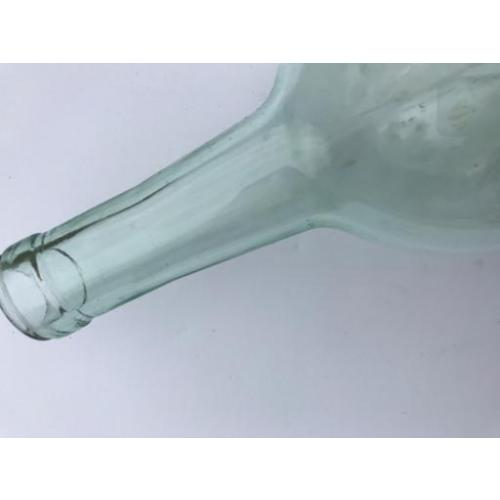glass: (1, 62, 499, 334)
